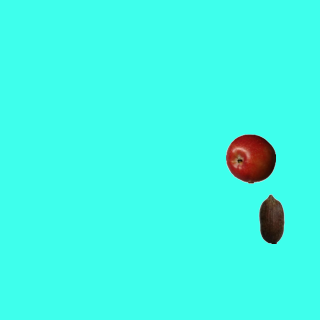Apple Braeburn: (225, 133, 275, 183)
Nut Pecan: (246, 193, 296, 243)
